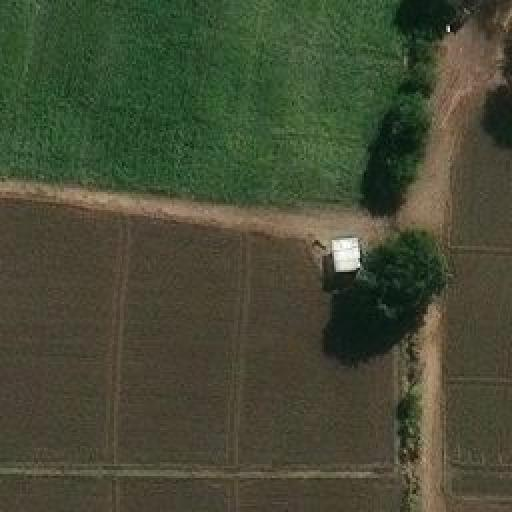manzanas: (317, 236, 364, 280)
